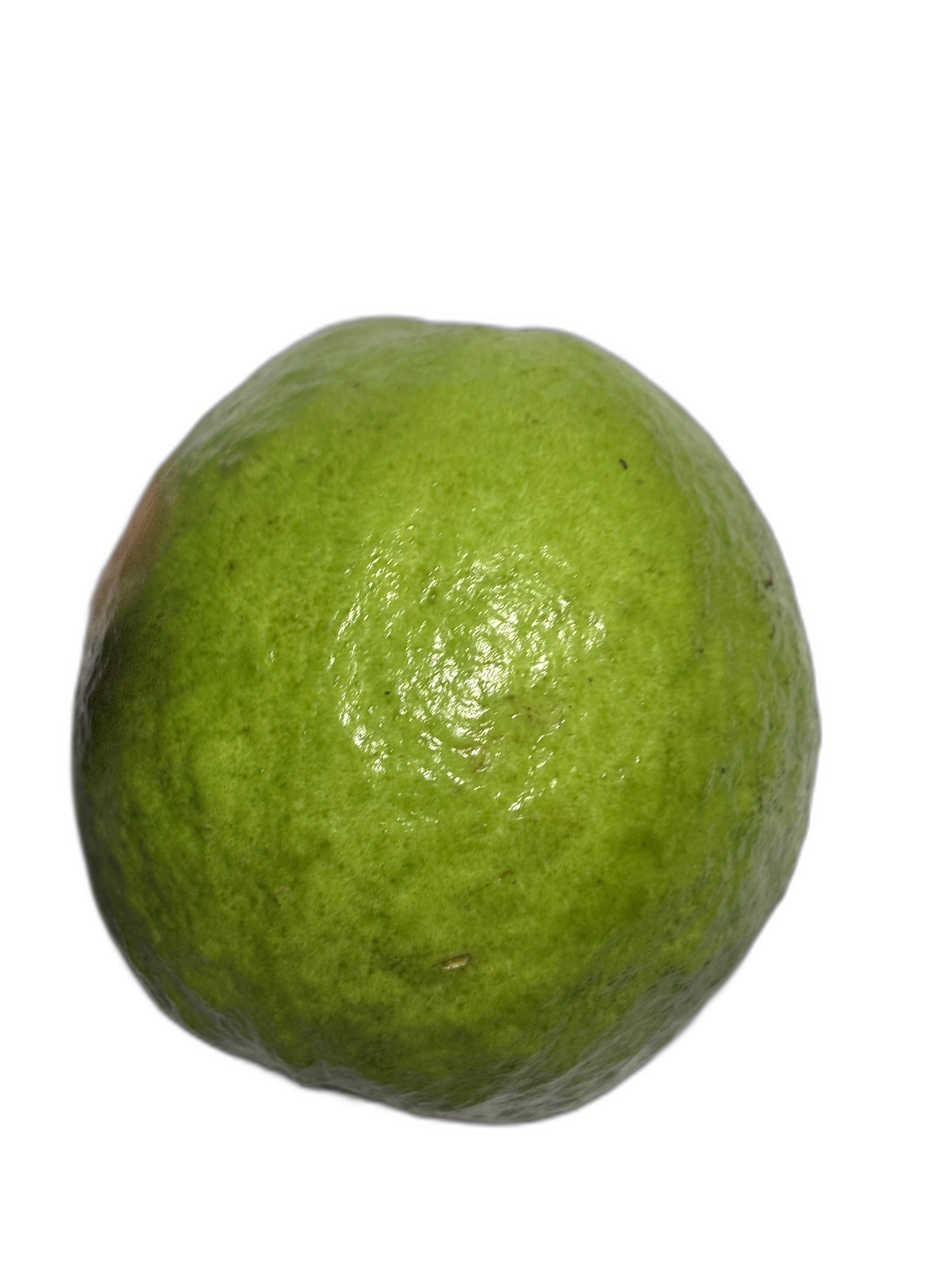guava: (0, 45, 841, 1103)
